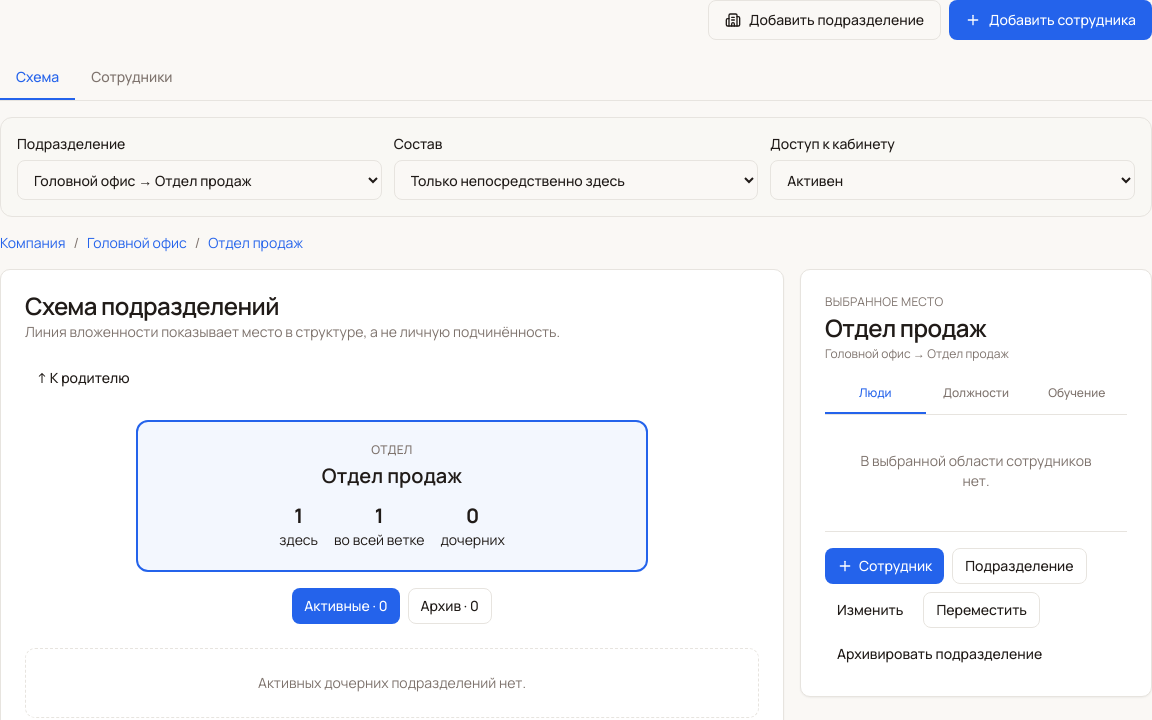
Test: StaffWorkspace › keeps canonical unknown message private and renders only the generic preview error
Click the button "Переместить" at {"x": 982, "y": 610}, box [923,592,1040,628]
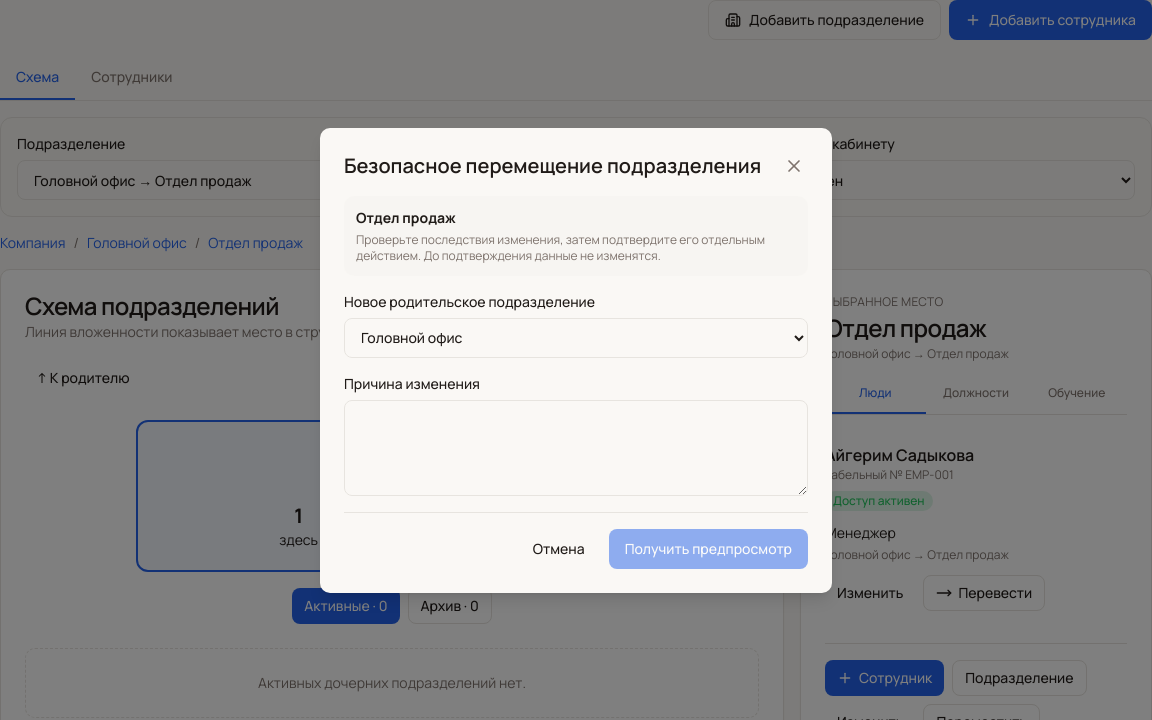
Type "Проверка безопасной ошибки" into the text box labelled "Причина изменения" at {"x": 576, "y": 448}, box [344,400,808,496]
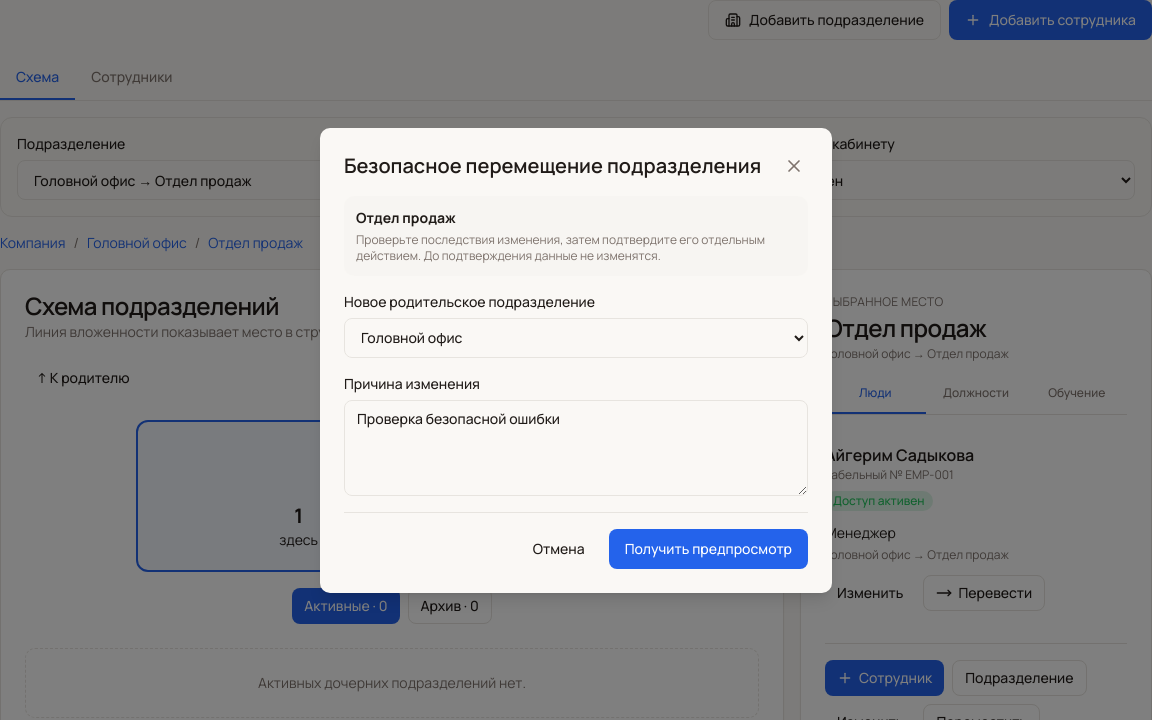
Click the button "Получить предпросмотр" at {"x": 708, "y": 548}, box [609,528,808,568]
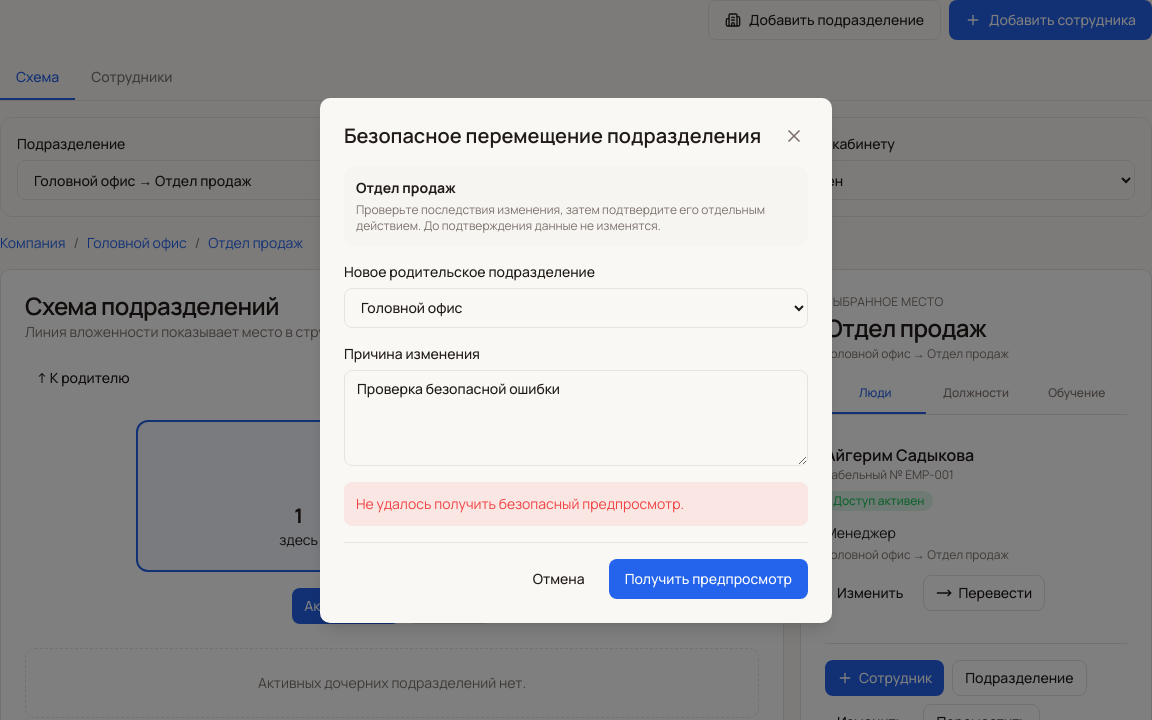
Now the text "Не удалось получить безопасный предпросмотр." is shown, box [344,482,808,526]
